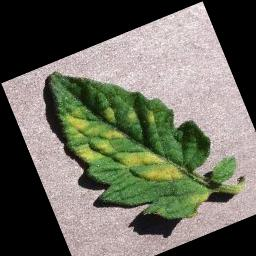Leaf_Mold: (56, 90, 131, 168), (115, 134, 185, 197)
